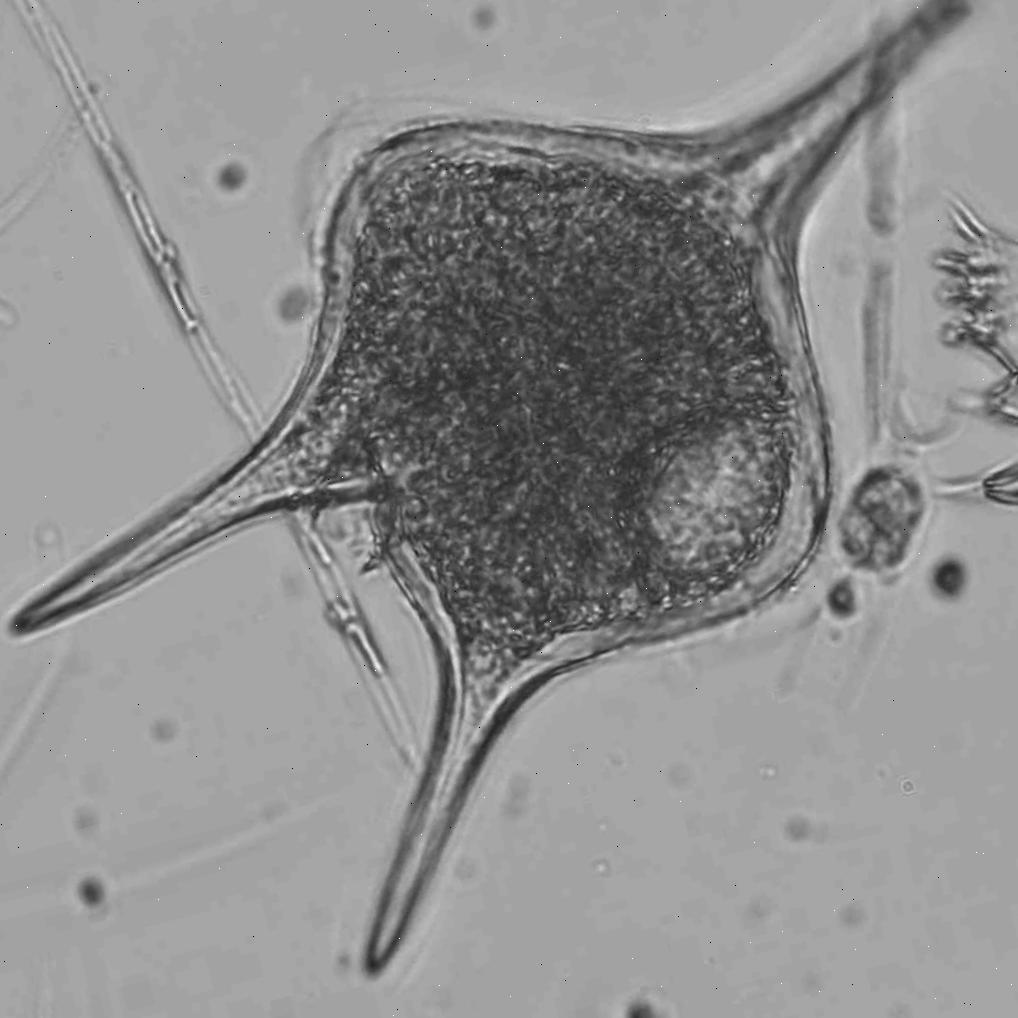protoperidinium_oceanicum: (18, 0, 967, 961)
